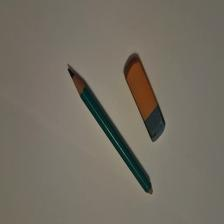eraser: (125, 59, 167, 144)
pencil: (69, 70, 154, 197)
